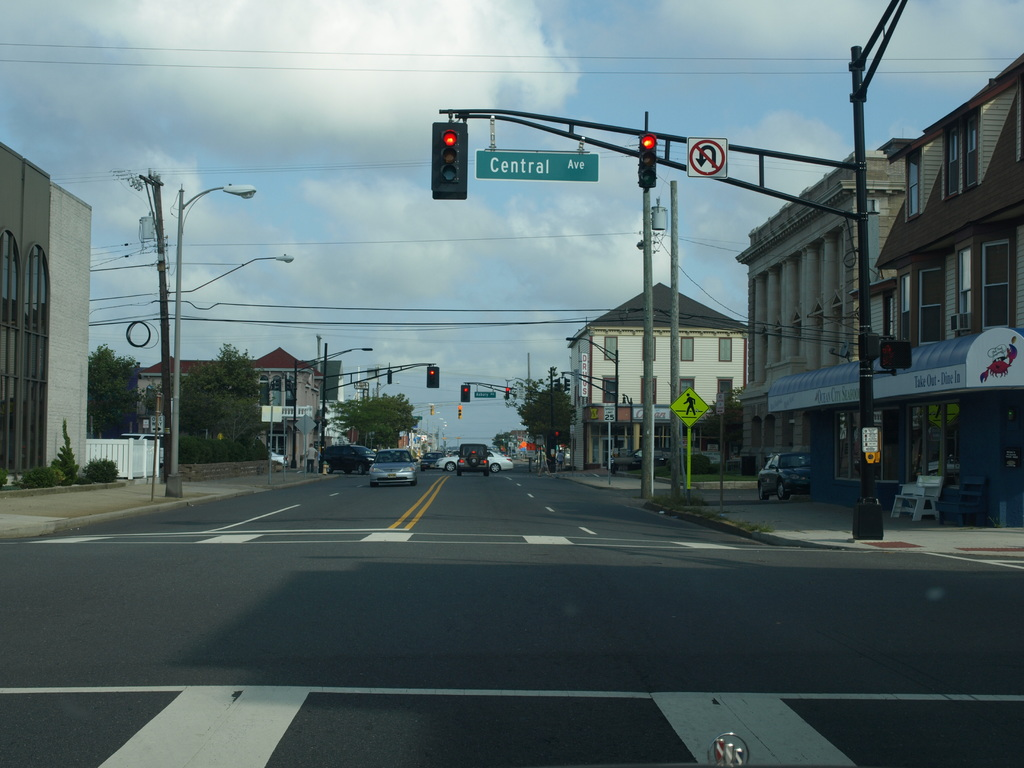no_u_turn: (686, 138, 729, 178)
pedestrian_crossing_ahead: (669, 386, 714, 427)
red_light: (636, 130, 661, 150), (439, 128, 459, 147), (505, 387, 511, 392), (463, 388, 468, 392), (430, 371, 435, 375), (555, 430, 558, 435)
